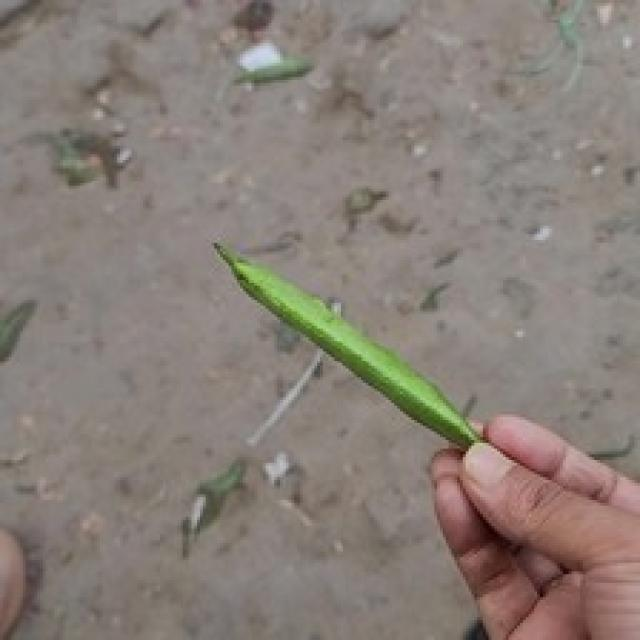Bean: (215, 246, 475, 446)
